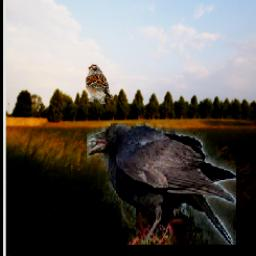Crow: (86, 124, 235, 246)
Sparrow: (86, 64, 113, 104)
